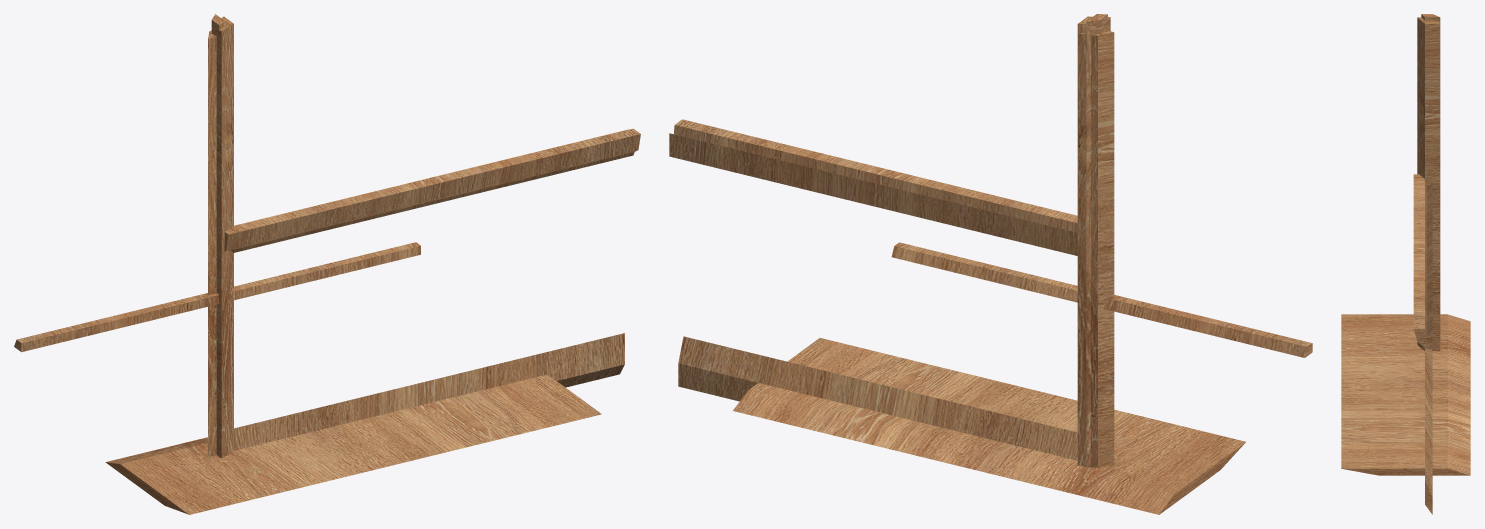
Rendered from 46586_deepcad.glb.
3 renders of one model, left to right at view 1: azimuth 30°, elevation 25°; view 2: azimuth 150°, elevation 25°; view 3: azimuth 270°, elevation 25°, orthographic. The views are drawn at different scales.
Parts seen in each view (by area): view 1: test_cmd_46586_pred; view 2: test_cmd_46586_pred; view 3: test_cmd_46586_pred.
Part boxes in pixels (bbox=[...]): test_cmd_46586_pred: bbox=[14, 14, 640, 514]; test_cmd_46586_pred: bbox=[669, 14, 1312, 514]; test_cmd_46586_pred: bbox=[1341, 14, 1470, 514].
Bounding box in the file's own units: 1 × 0.7063 × 0.2378.
Materials: 1 (1 with a texture image).
